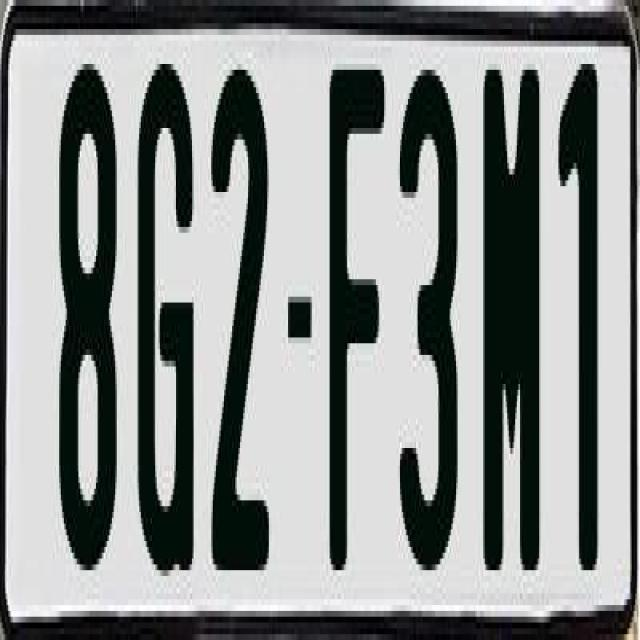1: (558, 46, 600, 576)
2: (208, 52, 270, 553)
3: (400, 52, 466, 558)
8: (60, 58, 116, 576)
F: (330, 70, 388, 570)
G: (133, 52, 192, 594)
M: (482, 64, 538, 588)
